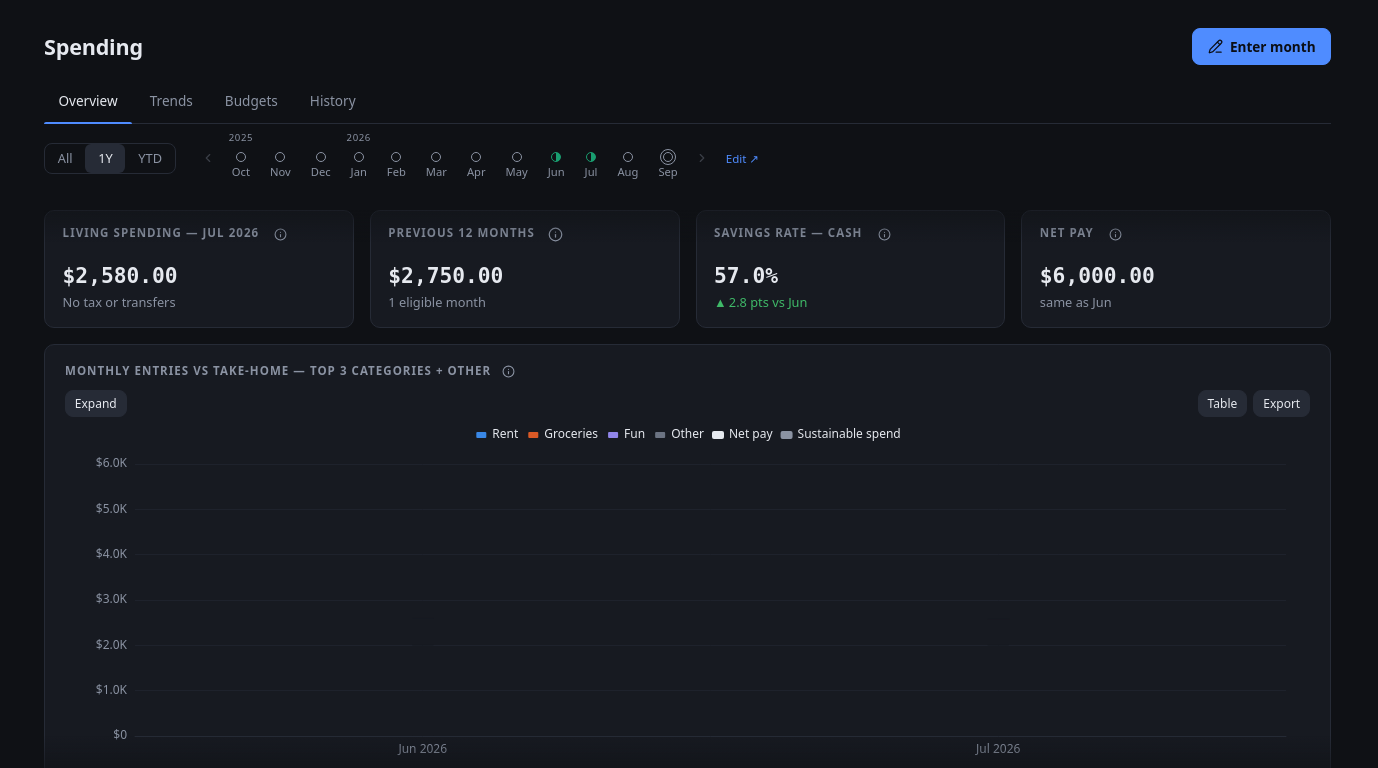
SpendingPage — tooltip fixes › captions every inside-zoom chart — bars, savings rate, trends — and nothing else
Click the tab "Trends". click: (171, 102)
box: [135, 81, 207, 123]
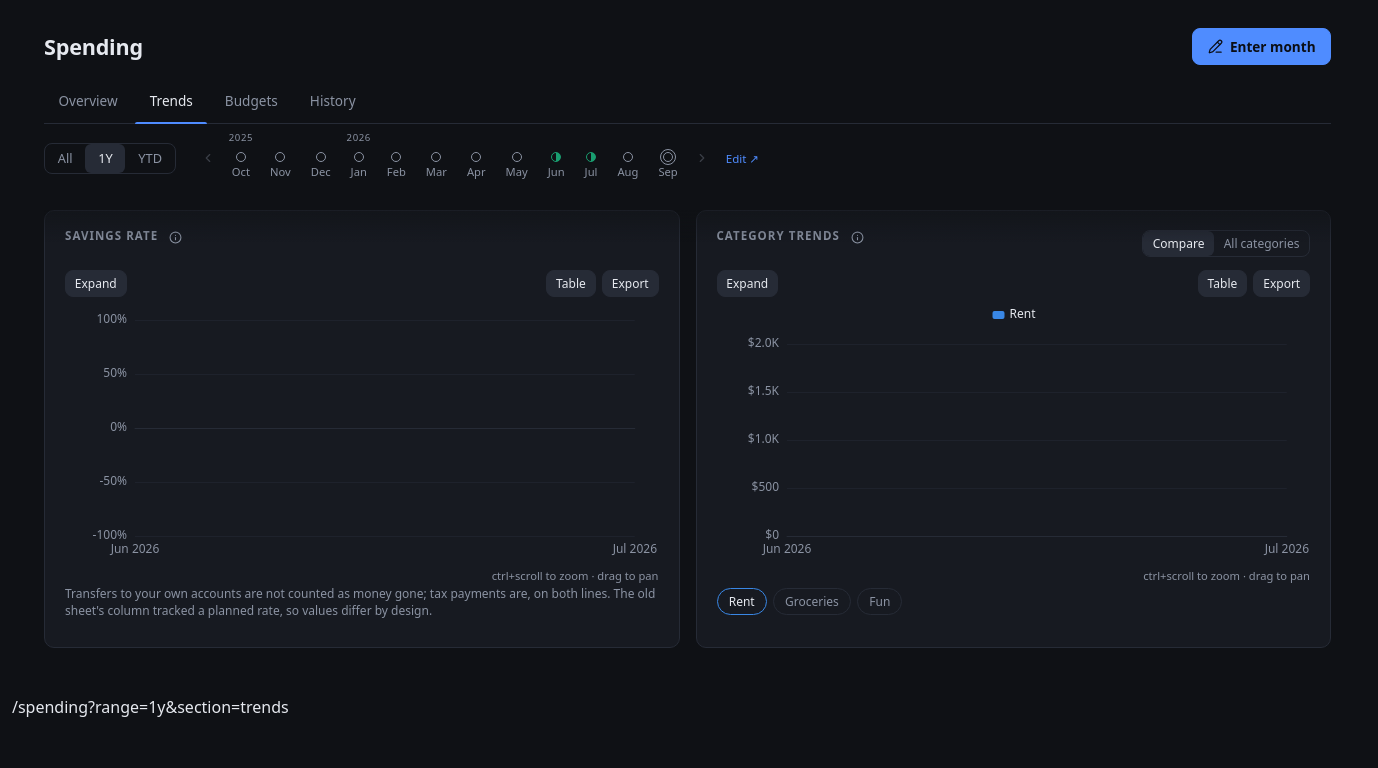
Result: the text "ctrl+scroll to zoom · drag to pan" is shown 3 times
